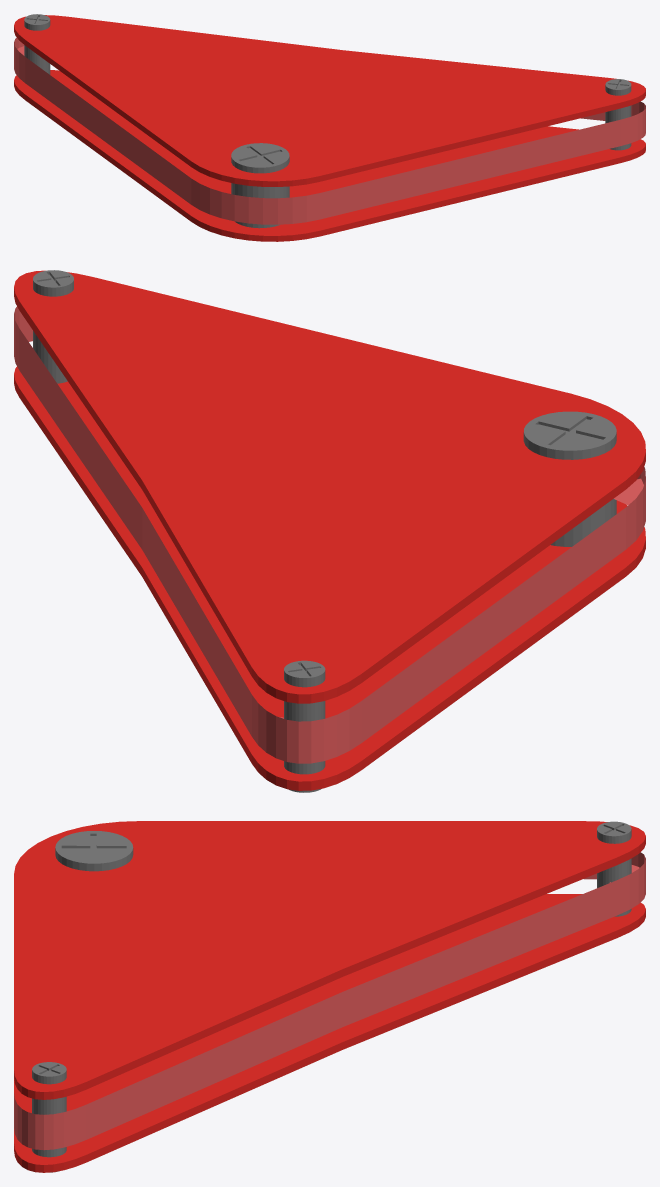
File: CornerPinger.fbx
3 views of the same model, one above another, from view 1: azimuth 30°, elevation 25°; view 2: azimuth 150°, elevation 25°; view 3: azimuth 270°, elevation 25° (orthographic). The views are drawn at different scales.
Visible parts, largest first — view 1: Cube; view 2: Cube; view 3: Cube.
Part boxes in pixels (x1,y1,x2,y2): Cube: (14,14,645,241); Cube: (14,270,645,792); Cube: (14,821,645,1172).
Size of the model in its own units: 185 by 30.59 by 183.
